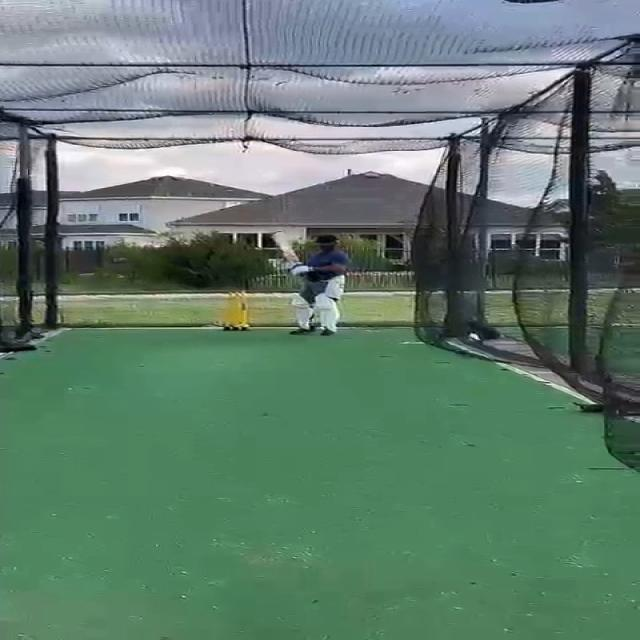batsman: (271, 229, 356, 338)
